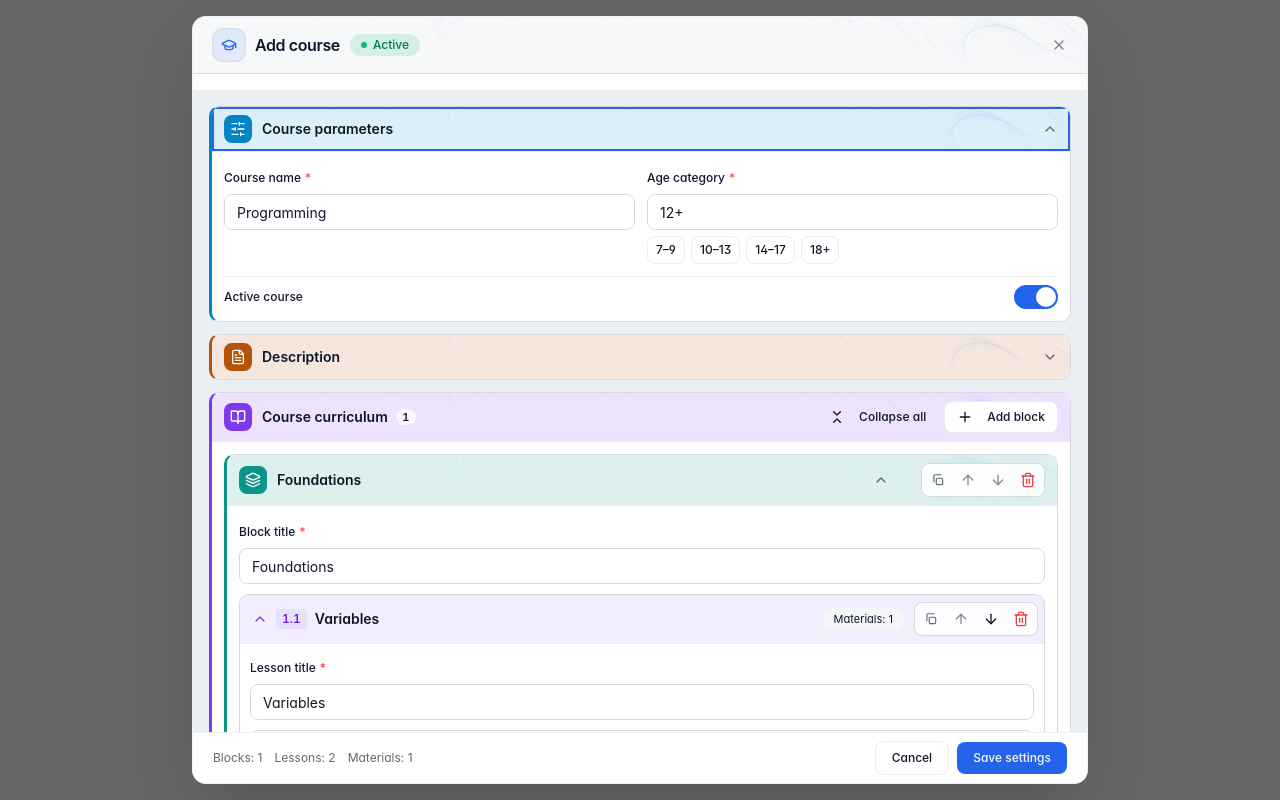
Test case: opens collapsed parameters before focusing an invalid required field and retains its draft
Clear the field labelled "Course name" at [430, 212], box 224,194 -> 635,230
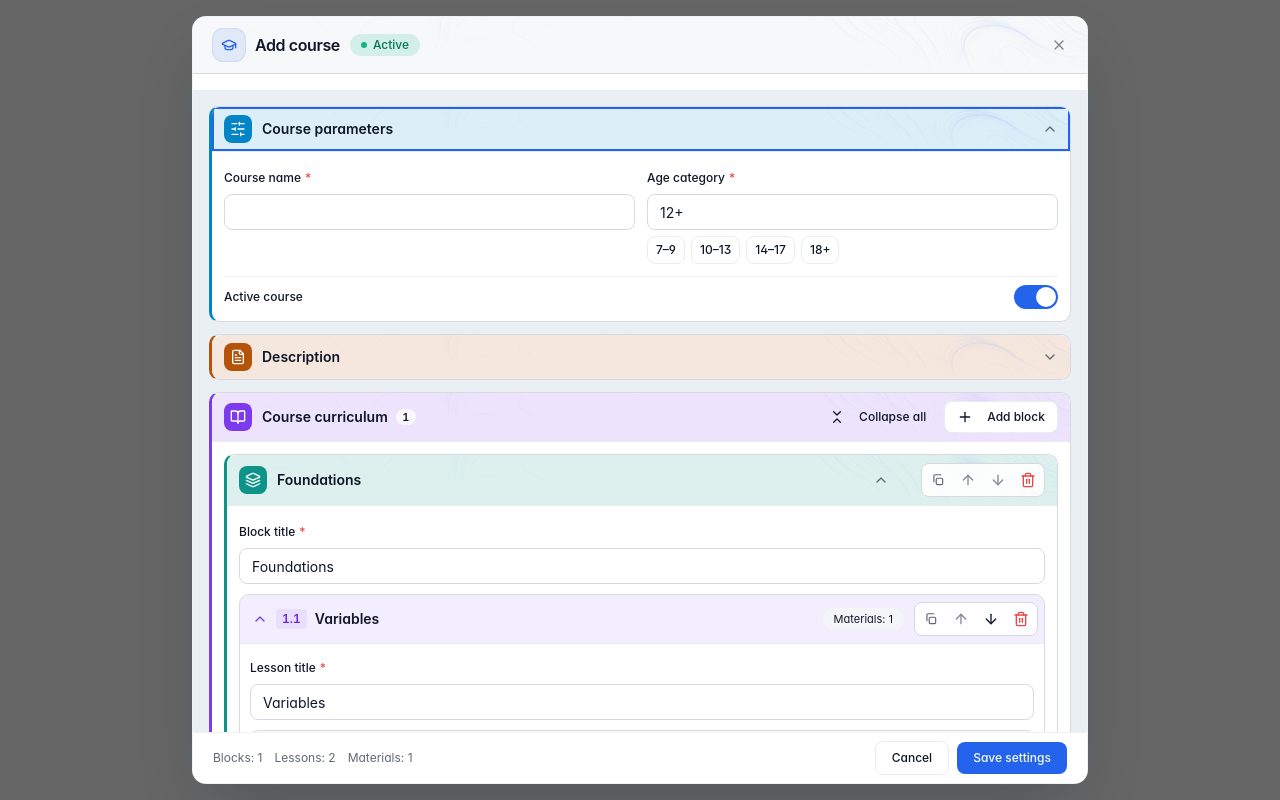
Click the button "Course parameters" at [328, 128], box 212,107 -> 1070,151
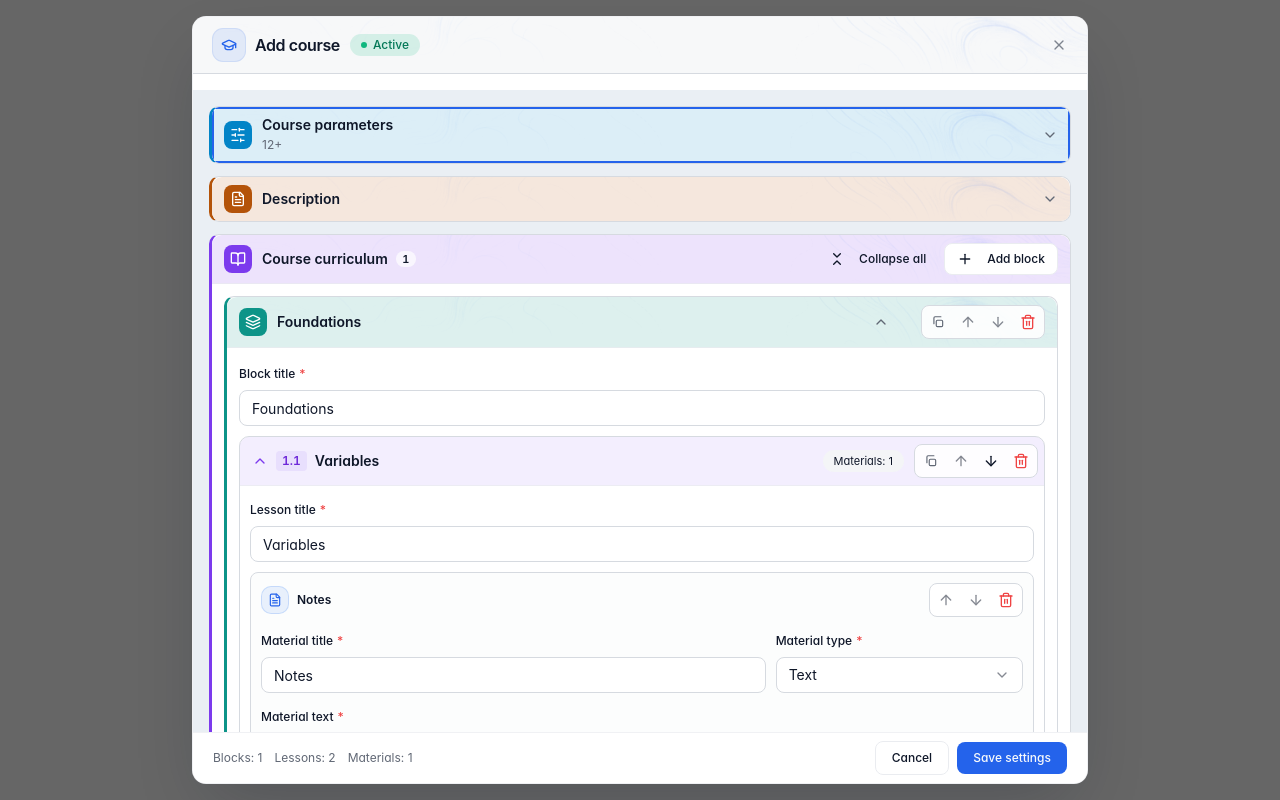
Click the button "Save settings" at [1012, 758], box 957,742 -> 1067,774
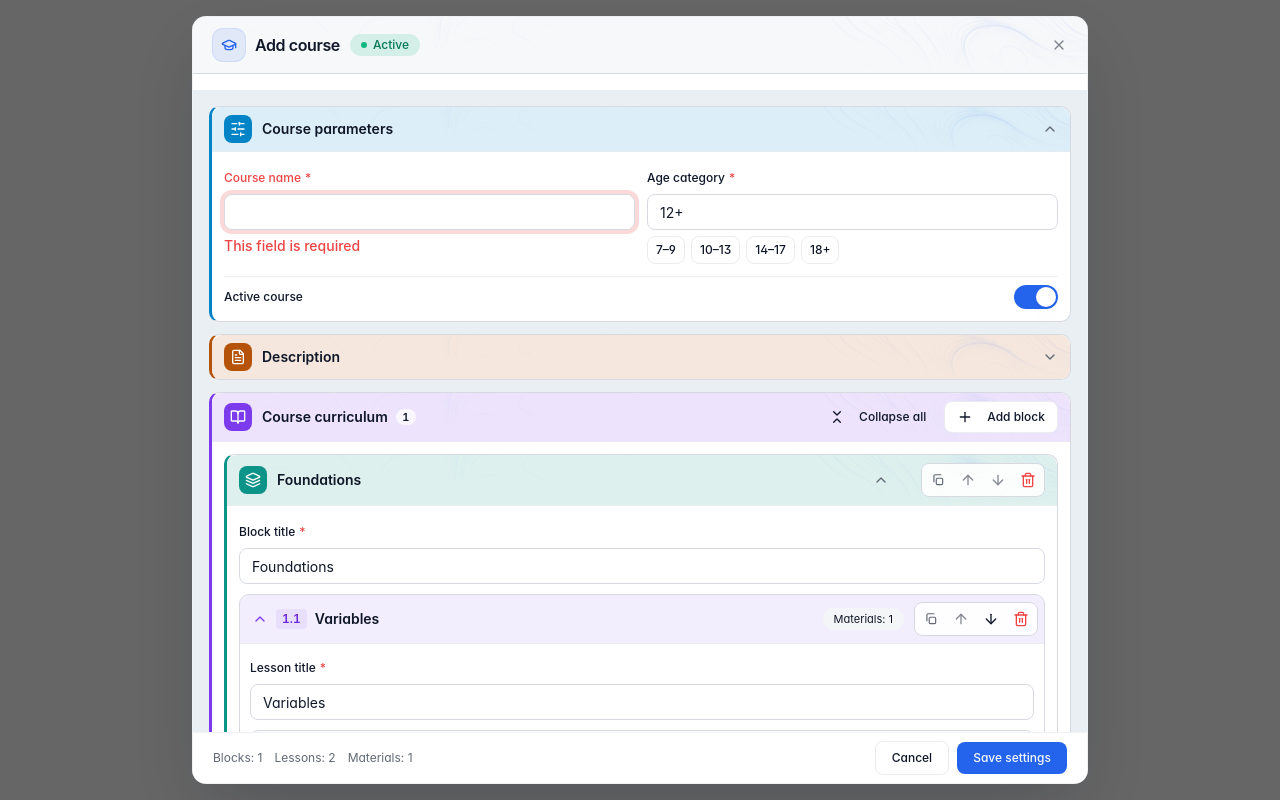
Expected: the button "Course parameters" is expanded, 212,107 -> 1070,151
